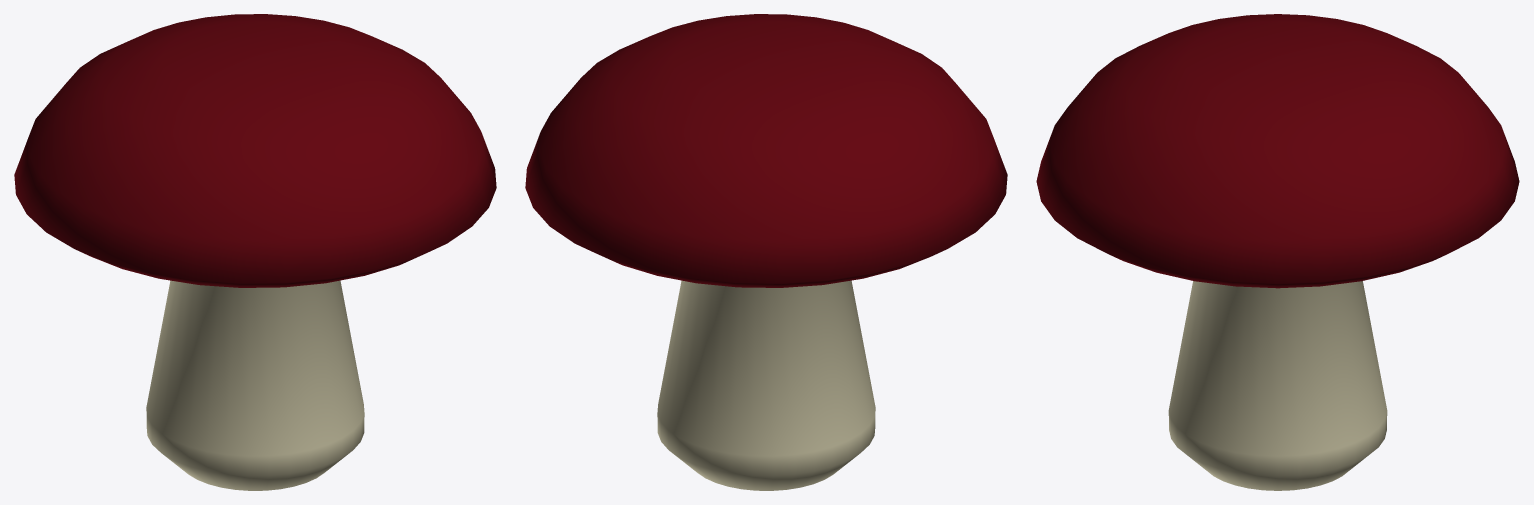
The model's file is red_shroom.fbx.
3 views of the same model, side by side, from view 1: azimuth 30°, elevation 25°; view 2: azimuth 150°, elevation 25°; view 3: azimuth 270°, elevation 25° (orthographic).
Parts seen in each view (by area): view 1: Red_Shroom; view 2: Red_Shroom; view 3: Red_Shroom.
Boxes of the visible parts, bbox=[...] form: Red_Shroom: bbox=[14, 14, 496, 490]; Red_Shroom: bbox=[525, 14, 1007, 490]; Red_Shroom: bbox=[1036, 14, 1519, 490].
Size of the model in its own units: 299 by 285 by 299.
